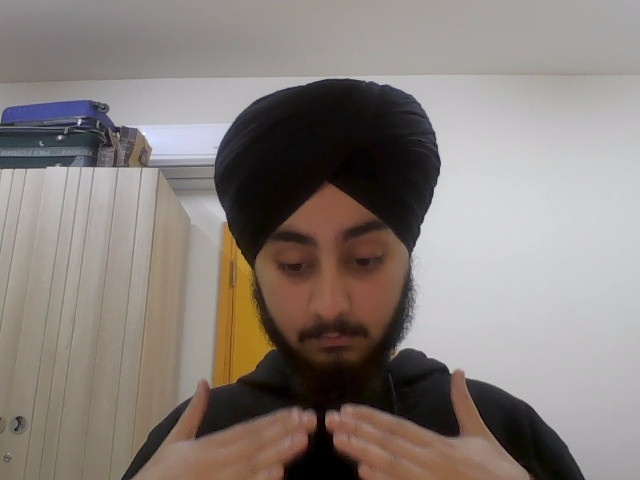Thanks: (137, 367, 533, 480)
